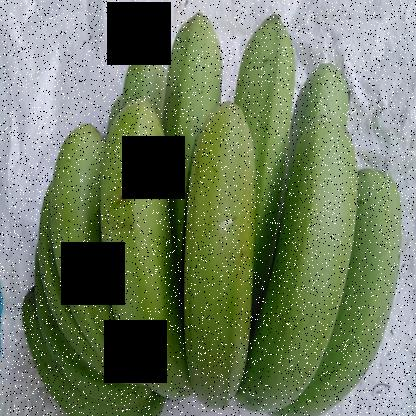unripe: (245, 102, 359, 415), (94, 94, 198, 415), (183, 86, 268, 415), (220, 0, 306, 322), (49, 97, 134, 377), (316, 162, 408, 386), (156, 0, 230, 131), (302, 22, 371, 127), (117, 14, 167, 130)
